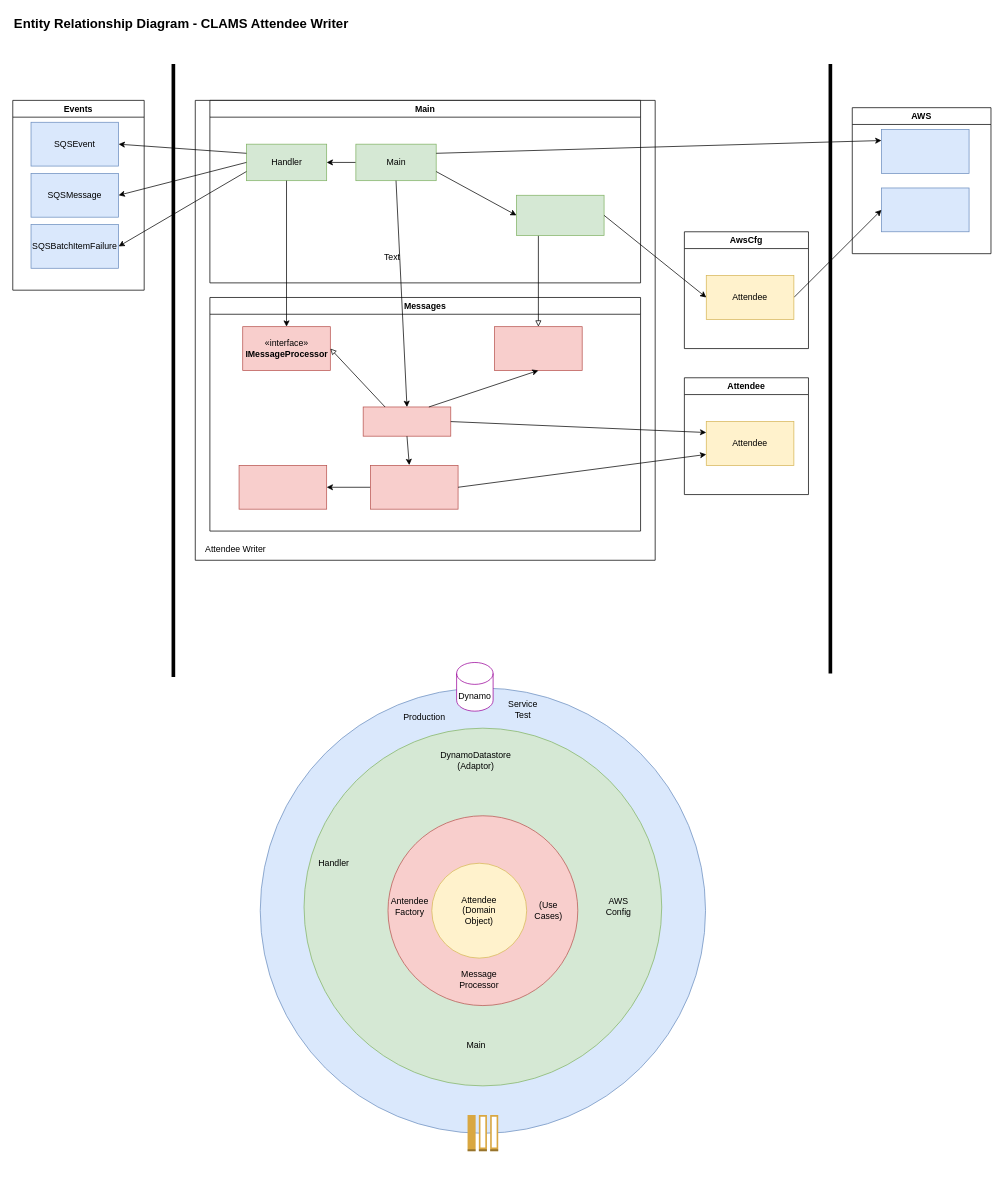
Some shapes in this 1004 by 1179 pixel diagram are drawn without their labels. The centre of each missing label's shape, as x and y in pixels:
"AttendeeFactory" goes at pixel 414 487.
"DynamoDataStore" goes at pixel 560 215.
"Lambda" goes at pixel 925 151.
"Message" goes at pixel 282 487.
"MessageProcessor" goes at pixel 406 421.
"SDK" goes at pixel 925 209.
"SQS" goes at pixel 482 1132.
"«interface» IDataStore" goes at pixel 538 348.
